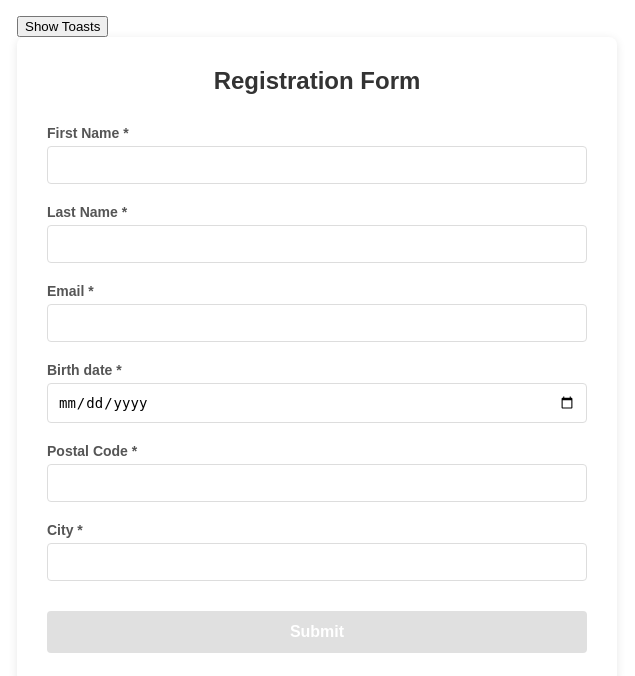
Test: RegistrationForm - Integration Tests › should show error message when firstName is invalid on blur
The image size is (635, 676).
In the field labelled "First Name *": (317, 165) [47, 146, 587, 184], type "A"
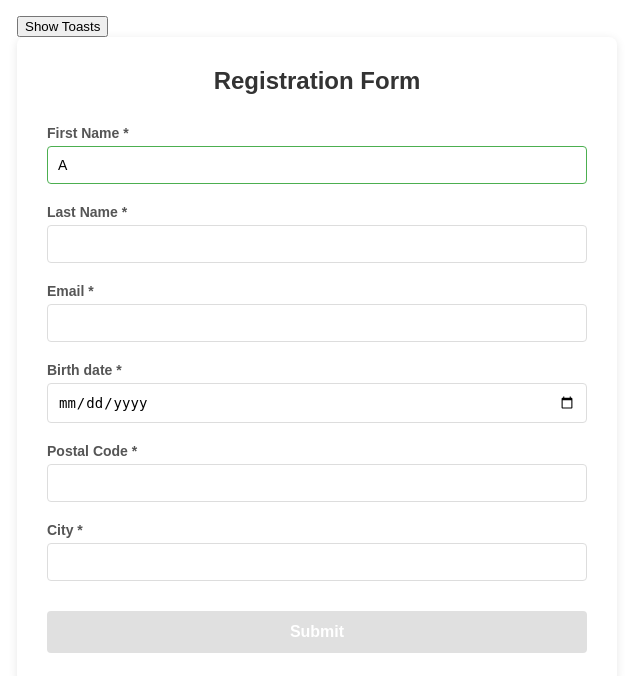
Press Tab
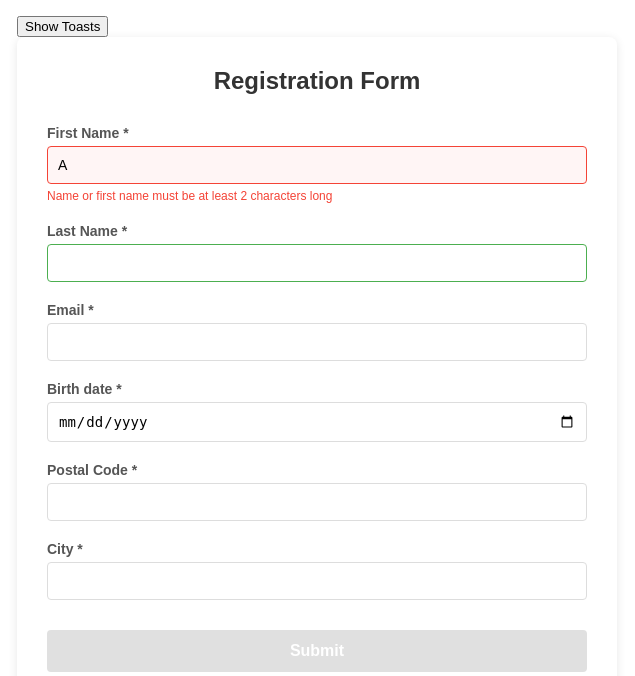
expect the text "Name or first name must be at least 2 characters long" is shown: met, box [47, 189, 332, 203]
